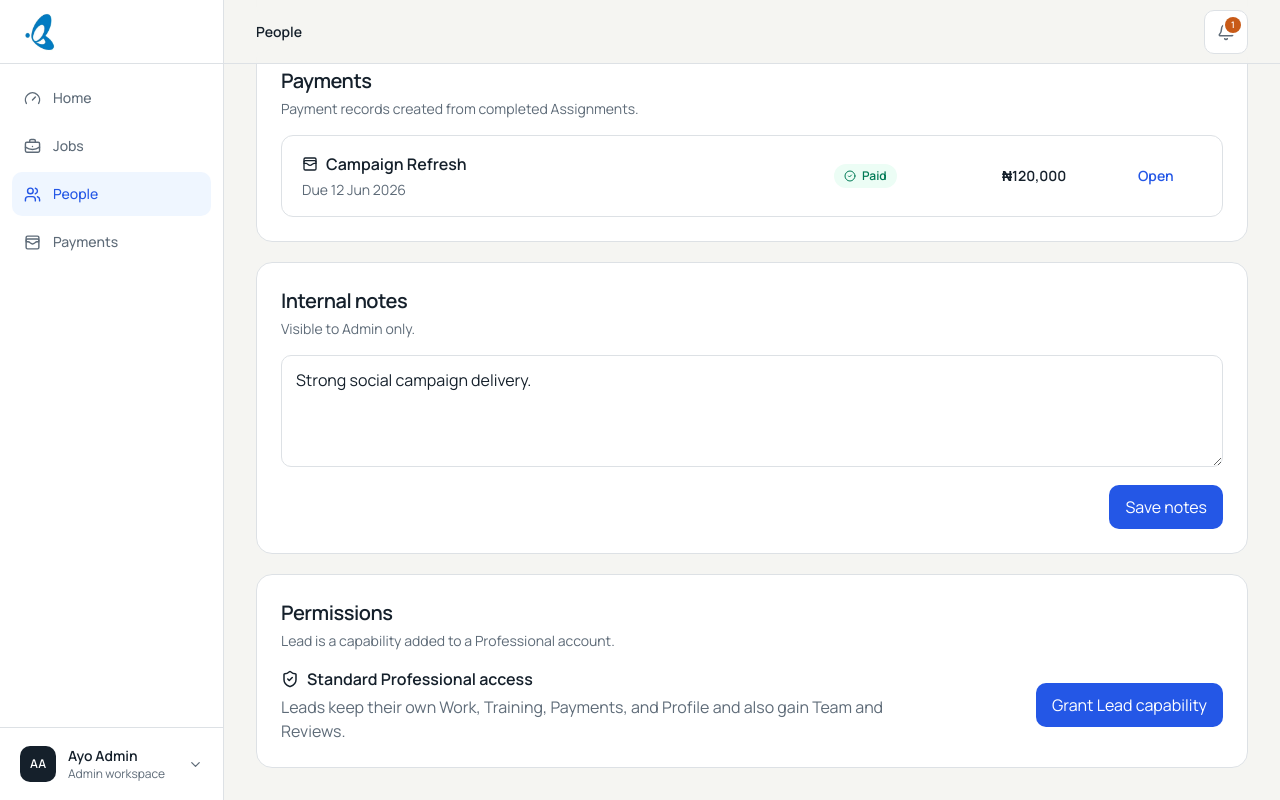
application routing › explains the access granted by Lead capability
(page scrolled)
Click the button "Grant Lead capability" at (1130, 705), box top-left (1036, 683), bottom-right (1223, 727)
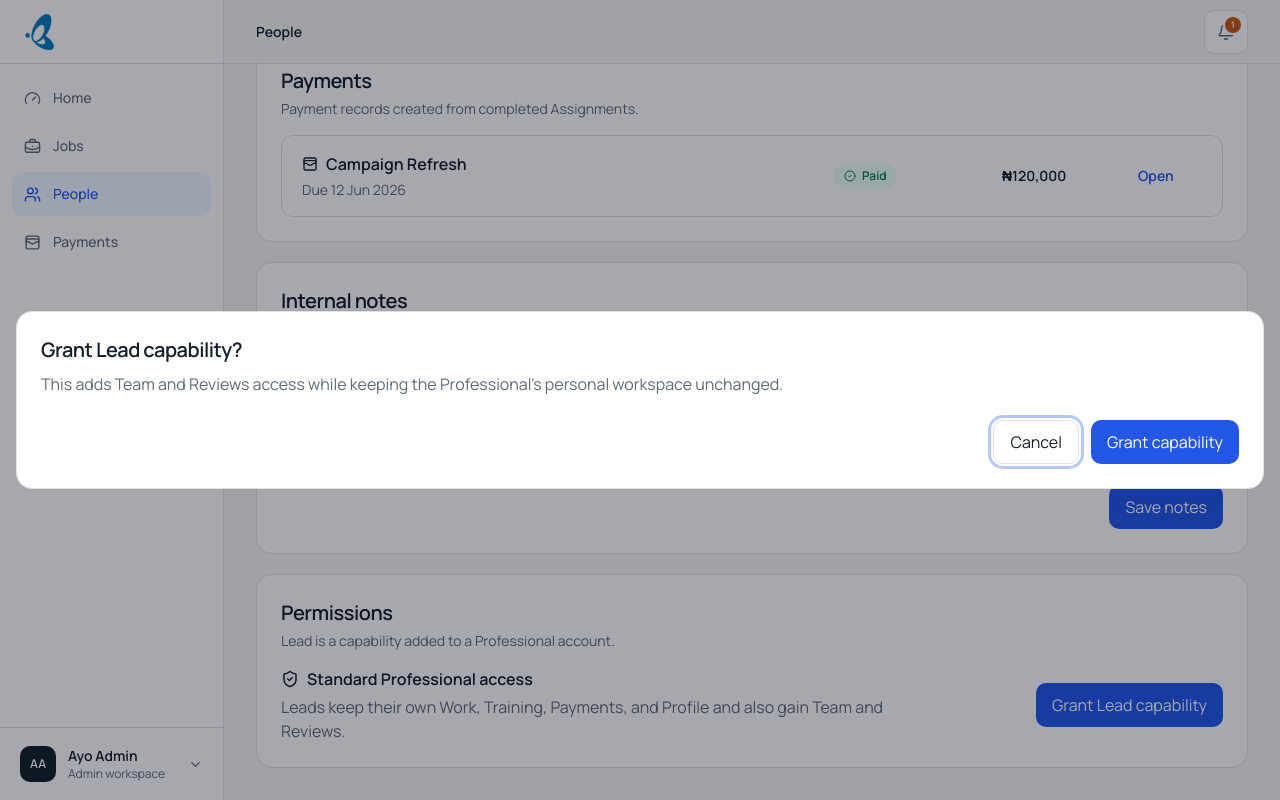
expect the dialog shows "Team and Reviews": met, box top-left (41, 373), bottom-right (783, 395)
